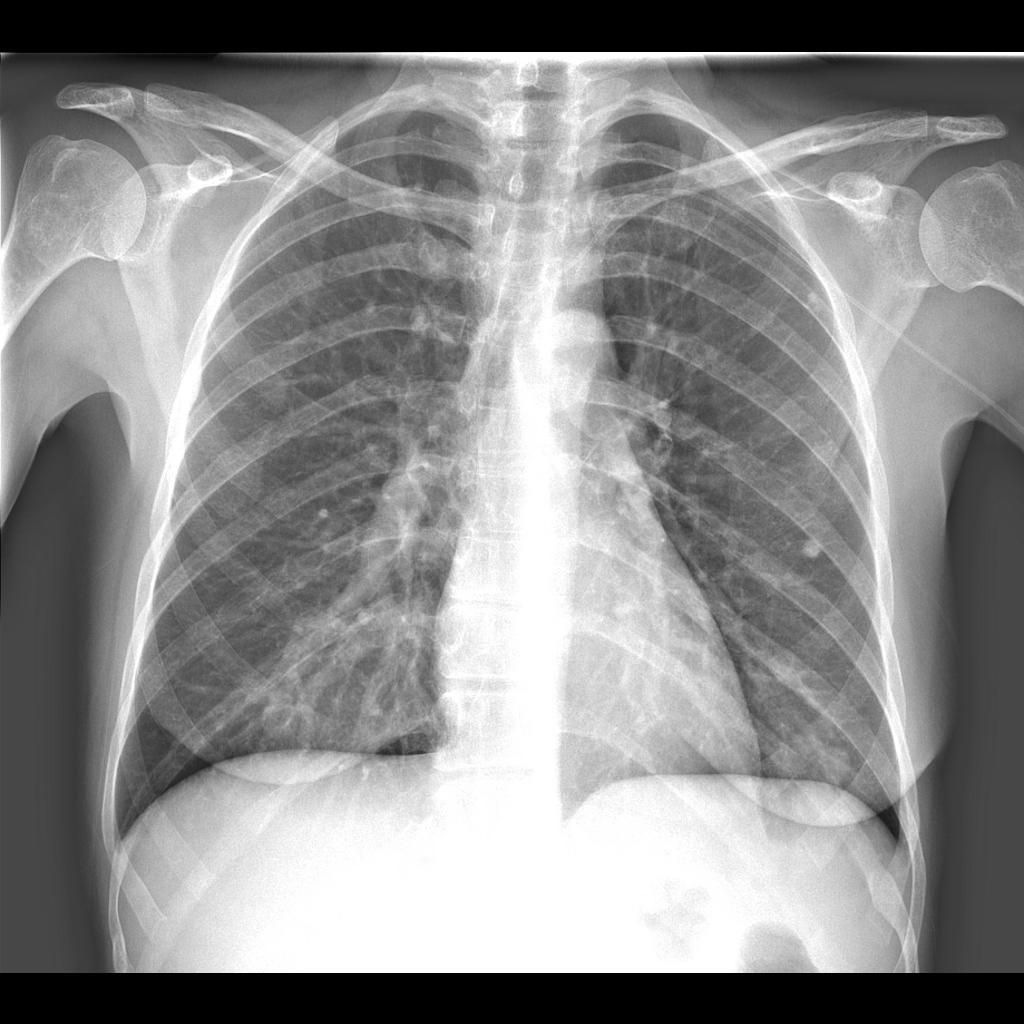Nodule: (607, 587, 646, 632), (794, 533, 830, 563)
